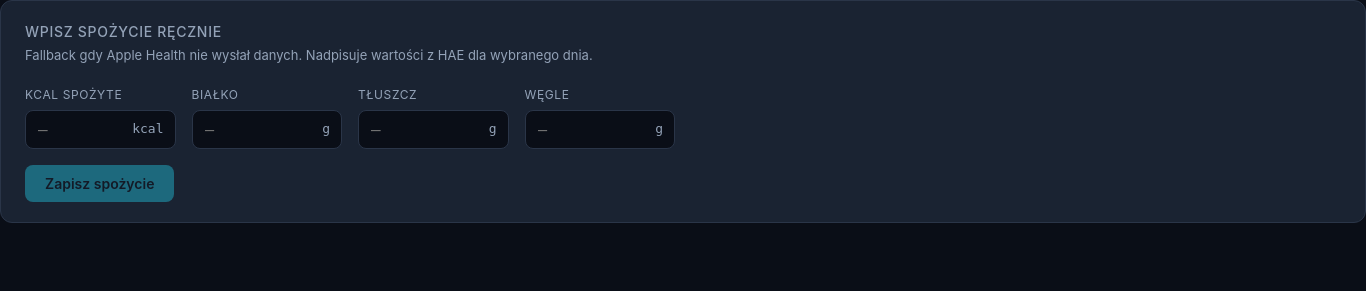
Scenario: ManualNutritionCard › network error → "Brak połączenia" banner
This screenshot has width=1366, height=291.
Type "150" into the number field labelled "Białko" at (267, 129), box [192,110,342,148]
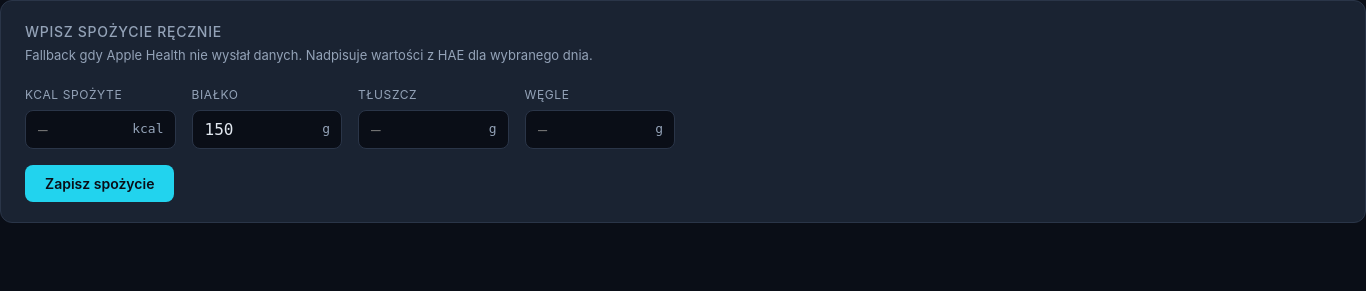
Click the button "Zapisz spożycie" at (100, 183), box [25,164,174,202]
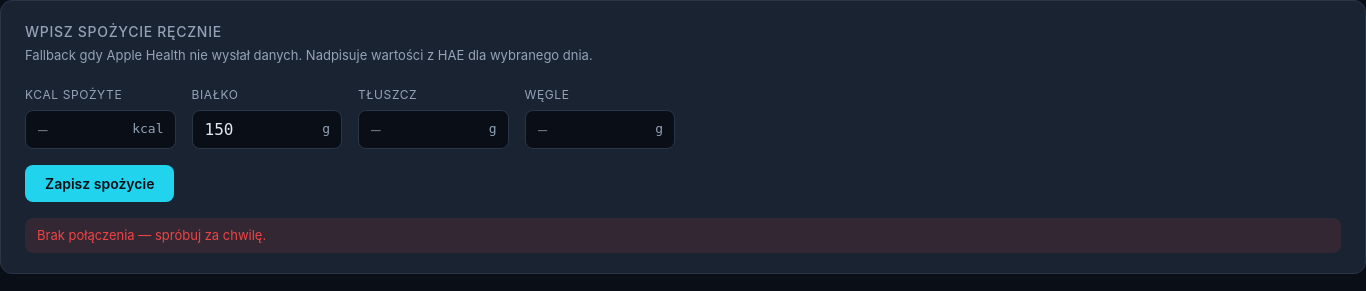
Result: the message shows "Brak połączenia" at [37,226,266,242]
